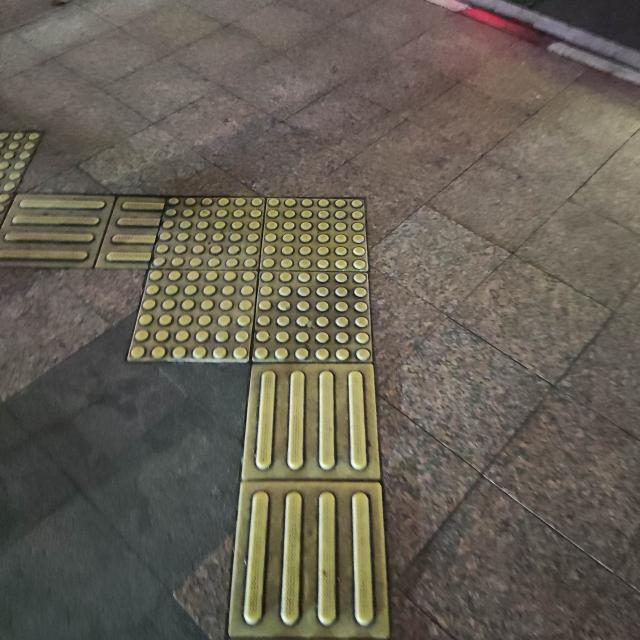kiri: (28, 181, 431, 409)
